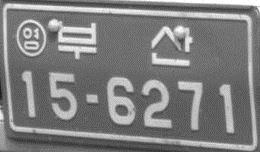-: (84, 92, 99, 107)
1: (216, 82, 239, 135), (20, 69, 39, 119)
2: (141, 77, 172, 130)
5: (48, 71, 78, 121)
6: (106, 76, 136, 125)
7: (176, 79, 205, 132)
부산_D: (54, 18, 195, 69)
영: (15, 18, 48, 57)
